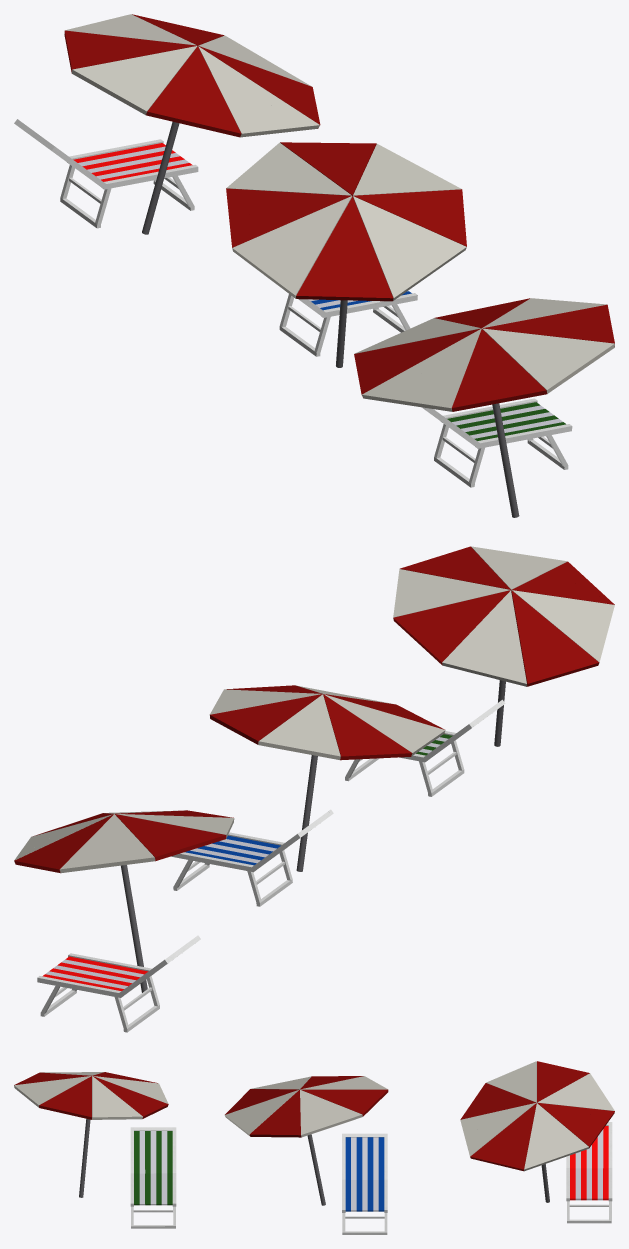
Rendered from beachseats.obj.
3 views of the same model, one above another, from view 1: azimuth 30°, elevation 25°; view 2: azimuth 150°, elevation 25°; view 3: azimuth 270°, elevation 25° (orthographic). The views are drawn at different scales.
Visible parts, largest first — view 1: Trianglea313427897930151, Trianglea34131129121781, Trianglea319809214353561, Triangleb344591923713681, Trianglea319809214353562, Triangleb334486351490022, Trianglea34131129121782, Trianglea307557596206673, Trianglea344591493129731, Triangleb334486351490021, Triangleb348733098506933, Trianglea307557596206671 (+33 smaller); view 2: Trianglea313427897930153, Trianglea34131129121783, Trianglea319809214353563, Triangleb334486351490023, Triangleb334486351490021, Triangleb344591923713683, Trianglea319809214353561, Triangleb341311666965483, Trianglea330585768938061, Triangleb348733098506932, Trianglea330585768938062, Trianglea330585768938063 (+20 smaller); view 3: Trianglea313427897930152, Triangleb344591923713682, Trianglea307557596206672, Trianglea344591493129732, Trianglea34131129121782, Triangleb348733098506932, Triangleb348733098506931, Trianglea319809214353562, Trianglea307557596206671, Trianglea330585768938061, Trianglea330585768938063, Triangleb334486351490022 (+43 smaller).
Part boxes in pixels (box(x1,y1,x2,y2)): Trianglea313427897930151: box(312, 196, 393, 297); Trianglea34131129121781: box(232, 196, 352, 262); Trianglea319809214353561: box(232, 190, 351, 247); Triangleb344591923713681: box(353, 196, 466, 252); Trianglea319809214353562: box(161, 46, 241, 133); Triangleb334486351490022: box(106, 46, 197, 112); Trianglea34131129121782: box(198, 46, 278, 133); Trianglea307557596206673: box(452, 329, 525, 407); Trianglea344591493129731: box(375, 247, 466, 300); Triangleb334486351490021: box(226, 157, 351, 195); Triangleb348733098506933: box(482, 328, 564, 390); Trianglea307557596206671: box(353, 191, 466, 246); Trianglea313427897930153: box(511, 590, 598, 662); Trianglea34131129121783: box(442, 590, 521, 662); Trianglea319809214353563: box(426, 590, 510, 663); Triangleb334486351490023: box(393, 574, 510, 620); Triangleb334486351490021: box(276, 694, 340, 756); Triangleb344591923713683: box(512, 590, 614, 630); Trianglea319809214353561: box(323, 694, 411, 752); Triangleb341311666965483: box(442, 652, 527, 686); Trianglea330585768938061: box(210, 694, 322, 727); Triangleb348733098506932: box(60, 814, 139, 868); Trianglea330585768938062: box(115, 814, 193, 858); Trianglea330585768938063: box(432, 546, 510, 589); Trianglea313427897930152: box(489, 1103, 536, 1169); Triangleb344591923713682: box(530, 1103, 588, 1146); Trianglea307557596206672: box(537, 1102, 590, 1147); Trianglea344591493129732: box(524, 1140, 588, 1171); Trianglea34131129121782: box(460, 1103, 535, 1138); Triangleb348733098506932: box(537, 1084, 614, 1110); Triangleb348733098506931: box(300, 1090, 338, 1134); Trianglea319809214353562: box(461, 1088, 535, 1119); Trianglea307557596206671: box(250, 1090, 300, 1134); Trianglea330585768938061: box(300, 1089, 362, 1114); Trianglea330585768938063: box(39, 1076, 91, 1105); Triangleb334486351490022: box(486, 1072, 536, 1102).
Bounding box in the file's own units: 13.74 × 8.75 × 39.78.
8 materials, 1 textured.
